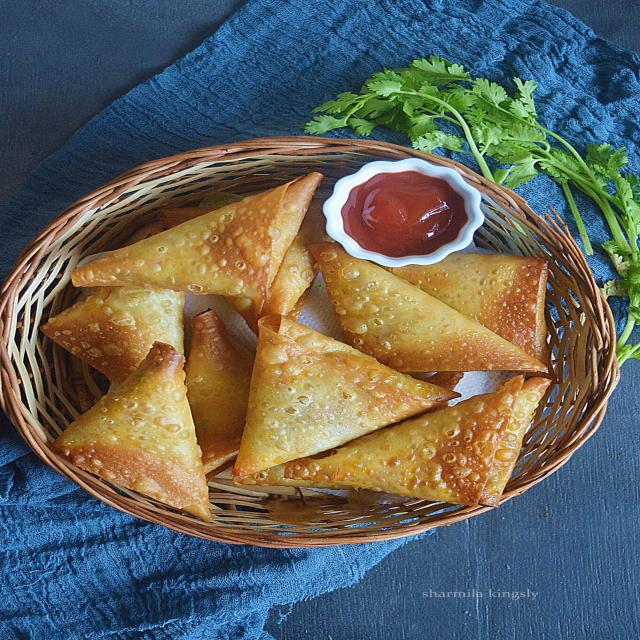SAMOSA: (43, 172, 550, 506), (61, 300, 210, 521)
